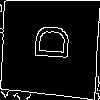D: (25, 22, 69, 61)
